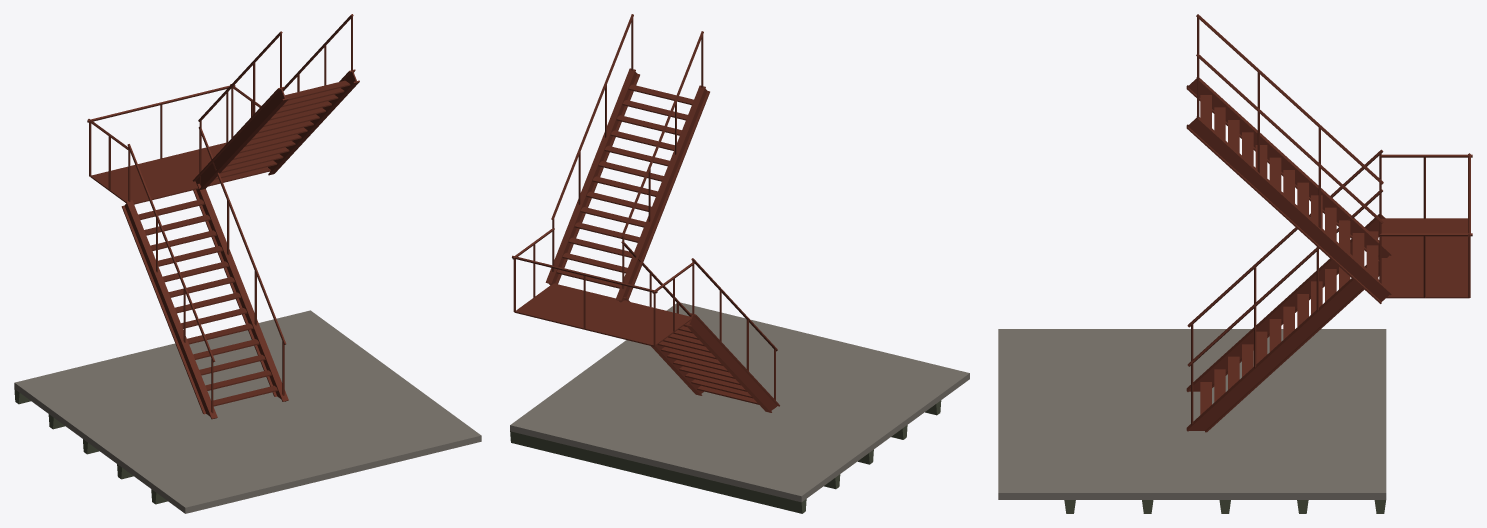
The model's file is Stairs.fbx.
3 renders of one model, left to right at view 1: azimuth 30°, elevation 25°; view 2: azimuth 150°, elevation 25°; view 3: azimuth 270°, elevation 25°, orthographic. The views are drawn at different scales.
Parts seen in each view (by area): view 1: Concrete_Floor_02, Concrete_Floor_01, Stair_01, Stair_03, Stair_02; view 2: Concrete_Floor_02, Concrete_Floor_01, Stair_03, Stair_02, Stair_01; view 3: Concrete_Floor_02, Stair_03, Stair_01, Concrete_Floor_01, Stair_02.
Part boxes in pixels (x1,y1,x2,y2): Concrete_Floor_02: [92, 310, 481, 513]; Concrete_Floor_01: [14, 310, 414, 462]; Stair_01: [121, 127, 288, 419]; Stair_03: [192, 14, 359, 192]; Stair_02: [87, 84, 270, 204]; Concrete_Floor_02: [510, 302, 969, 494]; Concrete_Floor_01: [510, 349, 904, 513]; Stair_03: [545, 14, 709, 302]; Stair_02: [512, 228, 694, 346]; Stair_01: [621, 241, 779, 412]; Concrete_Floor_02: [998, 329, 1386, 513]; Stair_03: [1186, 14, 1391, 303]; Stair_01: [1186, 149, 1385, 432]; Concrete_Floor_01: [1147, 329, 1386, 499]; Stair_02: [1379, 153, 1472, 298].
Bounding box in the file's own units: 500 × 622 × 611.
Materials: 2 (2 with a texture image).
